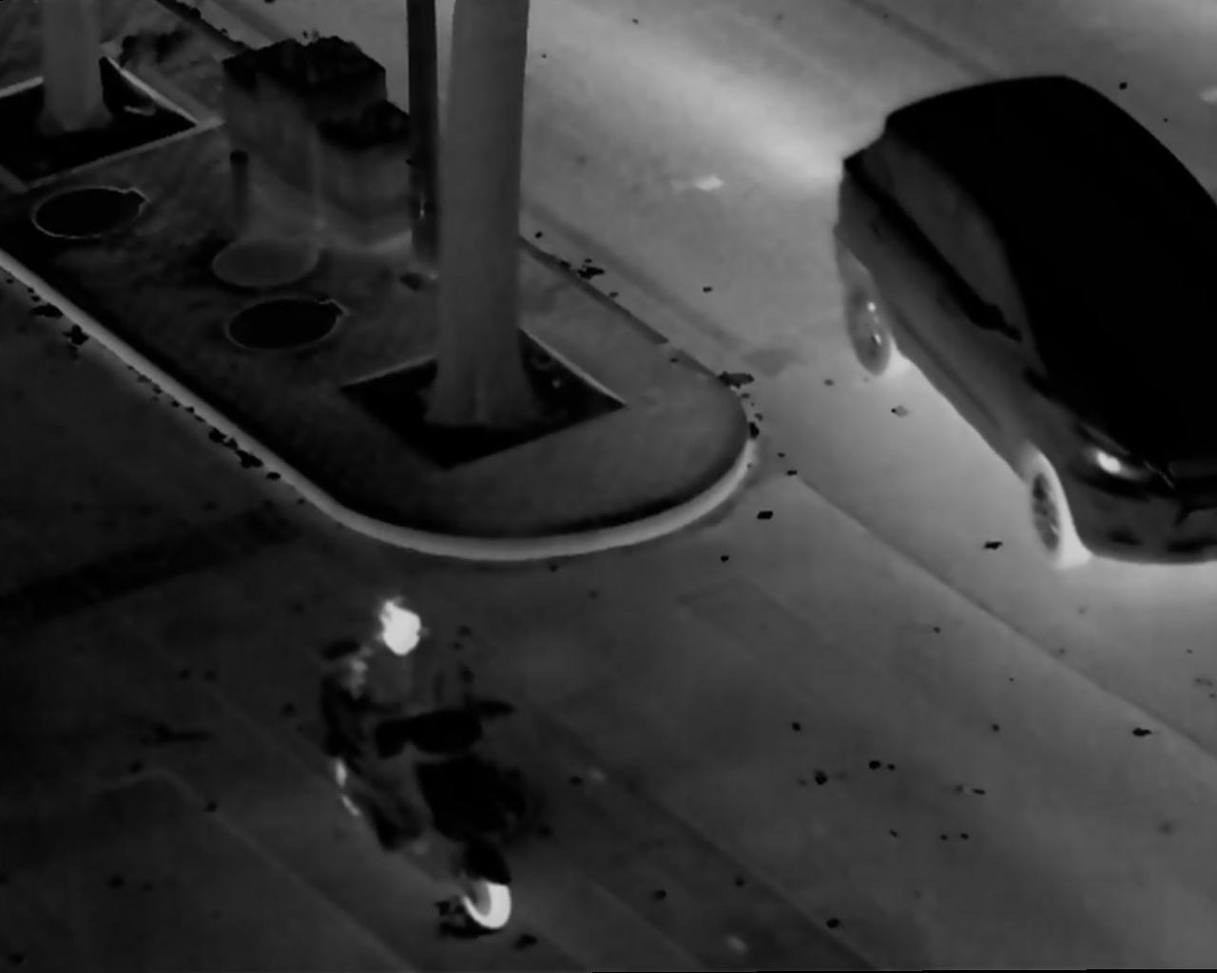person: (349, 593, 444, 825)
